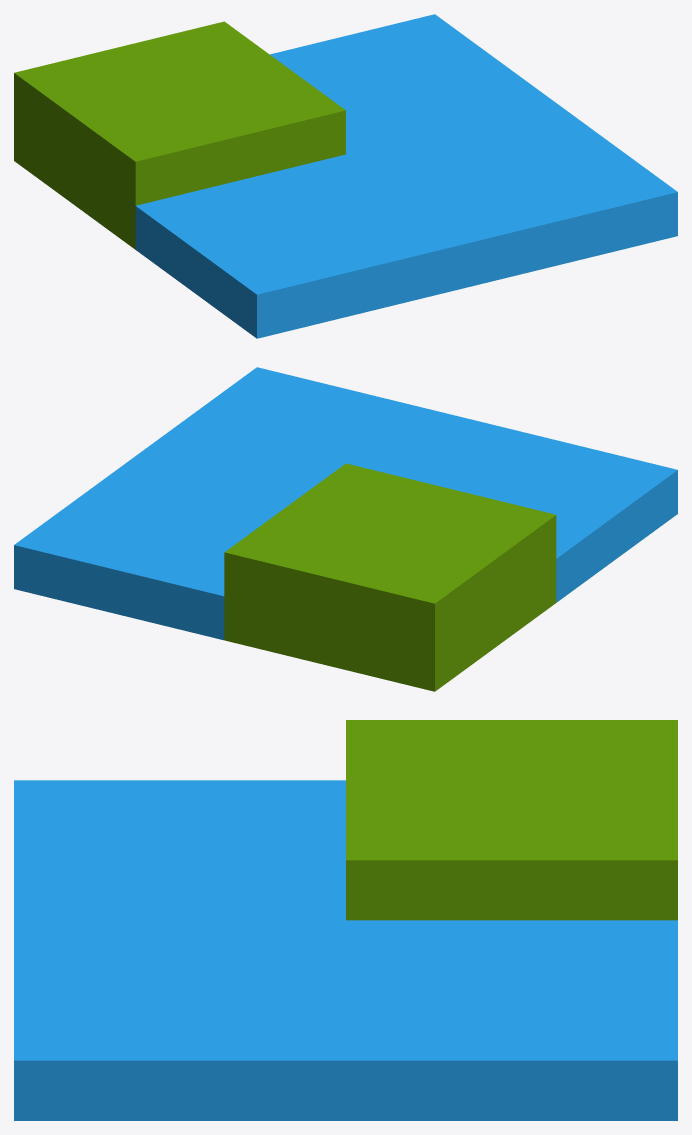
File: TileWater_18.fbx
3 views of the same model, one above another, from view 1: azimuth 30°, elevation 25°; view 2: azimuth 150°, elevation 25°; view 3: azimuth 270°, elevation 25° (orthographic). The views are drawn at different scales.
Visible parts, largest first — view 1: TileWater_18; view 2: TileWater_18; view 3: TileWater_18.
Boxes of the visible parts, left/top/right/bottom form: TileWater_18: left=14, top=14, right=677, bottom=338; TileWater_18: left=14, top=367, right=677, bottom=691; TileWater_18: left=14, top=720, right=677, bottom=1120.
Bounding box in the file's own units: 500 × 100 × 500.
